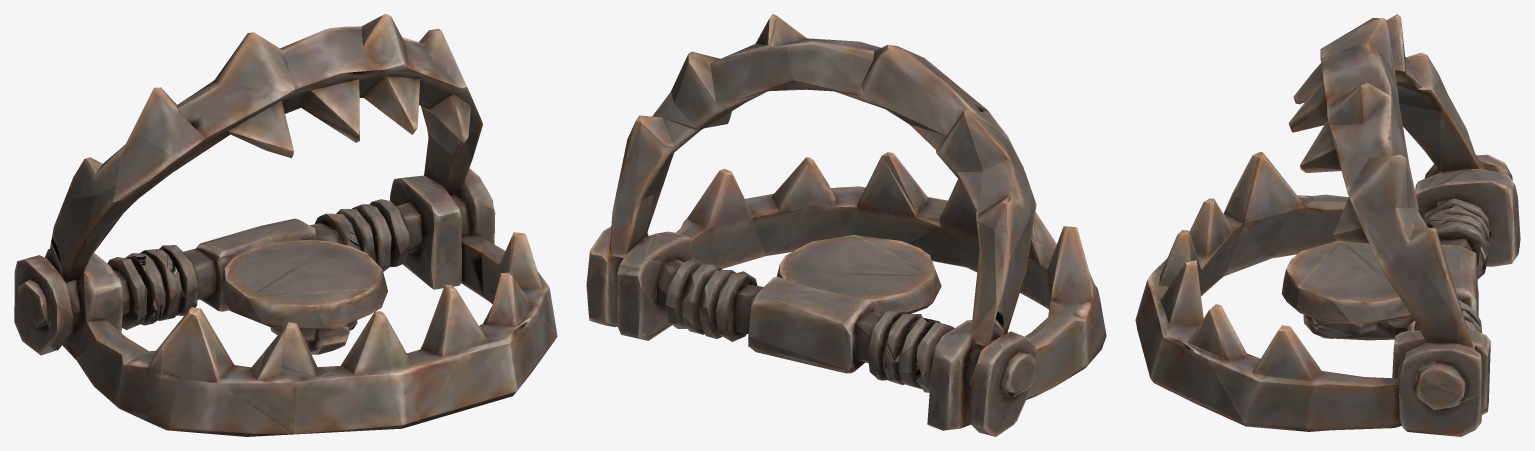
Rendered from bear-trap.low.glb.
The picture shows the model from 3 angles, left to right: view 1: azimuth 30°, elevation 25°; view 2: azimuth 150°, elevation 25°; view 3: azimuth 270°, elevation 25°; orthographic projection. The views are drawn at different scales.
Parts seen in each view (by area): view 1: output_unwrapped; view 2: output_unwrapped; view 3: output_unwrapped.
Part boxes in pixels (x1,y1,x2,y2): output_unwrapped: [14, 14, 557, 436]; output_unwrapped: [586, 14, 1106, 436]; output_unwrapped: [1135, 14, 1520, 436].
Bounding box in the file's own units: 1.89 × 1.28 × 1.49.
1 material, 1 textured.
